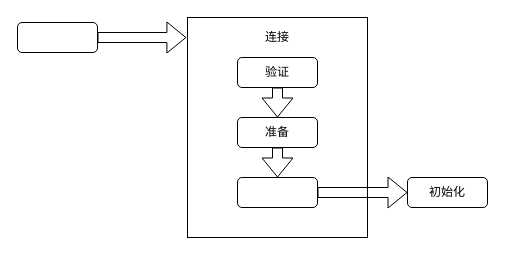
Image size: 505x255. Some labels were removed from this diagram. The box of each missing label's shape, as (x1, y1, x2, y2) in pixels:
加载: (16, 22, 98, 52)
解析: (236, 176, 318, 208)
